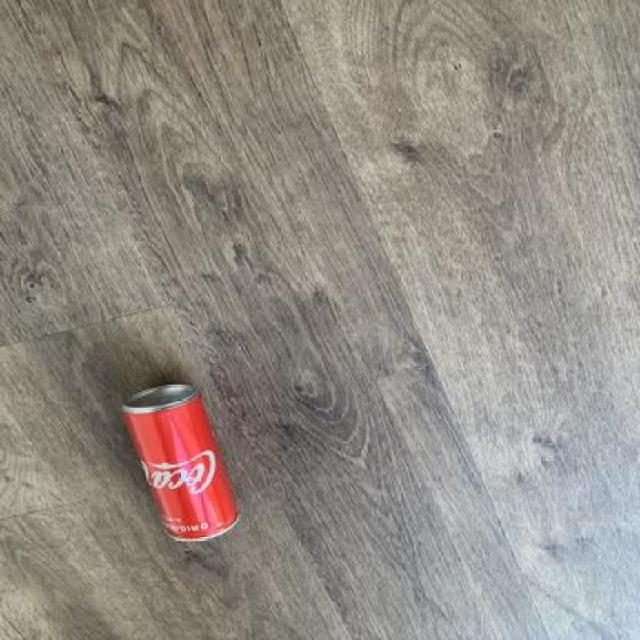trash: (92, 362, 263, 567)
